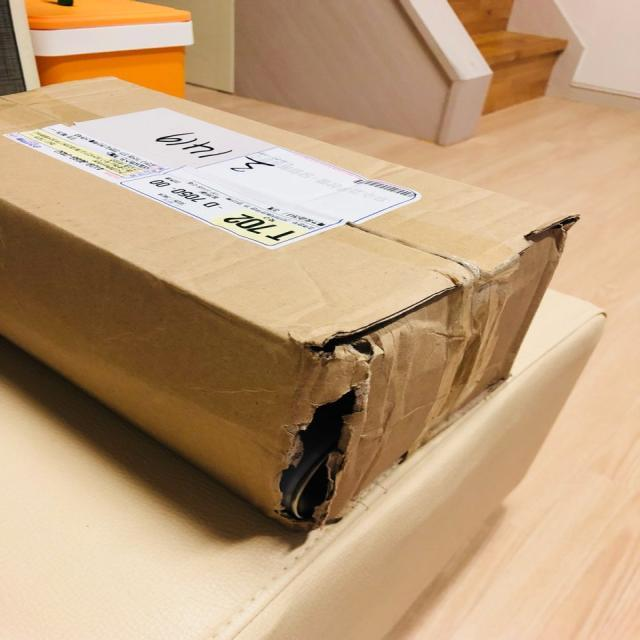box: (80, 1, 640, 629)
